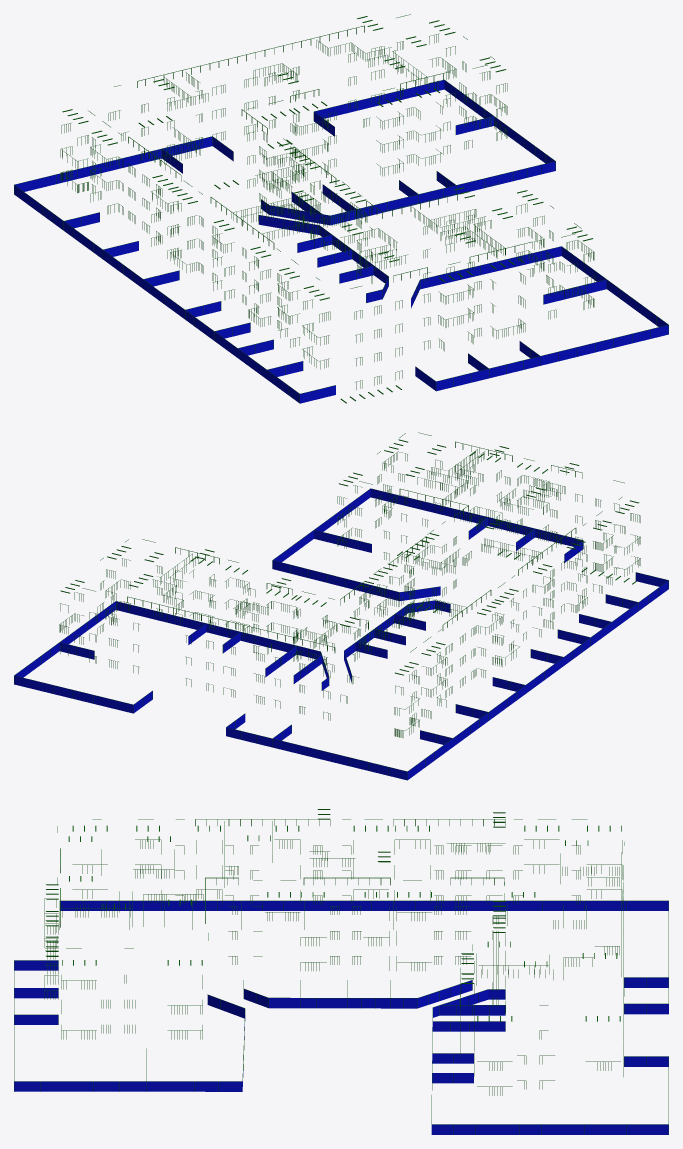
File: Barierki_LOD.fbx
3 renders of one model, top to bottom at view 1: azimuth 30°, elevation 25°; view 2: azimuth 150°, elevation 25°; view 3: azimuth 270°, elevation 25°, orthographic. The views are drawn at different scales.
Parts seen in each view (by area): view 1: Barierki_LOD; view 2: Barierki_LOD; view 3: Barierki_LOD.
Boxes of the visible parts, x1,y1,x2,y2 form: Barierki_LOD: (14,14,668,403); Barierki_LOD: (14,432,668,780); Barierki_LOD: (14,809,668,1134).
Bounding box in the file's own units: 5628 × 6959 × 1514.
